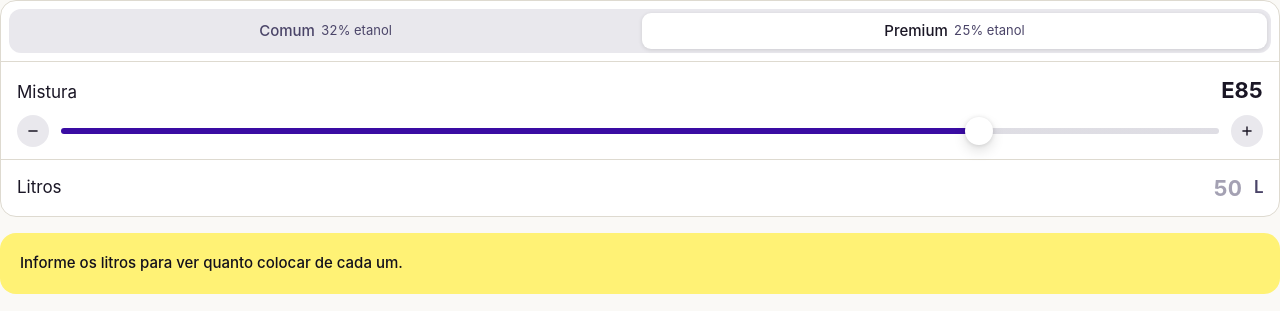
Test case: Calculator › os botões − e + ajustam de 1 em 1
The width and height of the screenshot is (1280, 311).
Step 1. Click the button named "Aumentar mistura" → click(1247, 131), box [1231,115,1263,147]
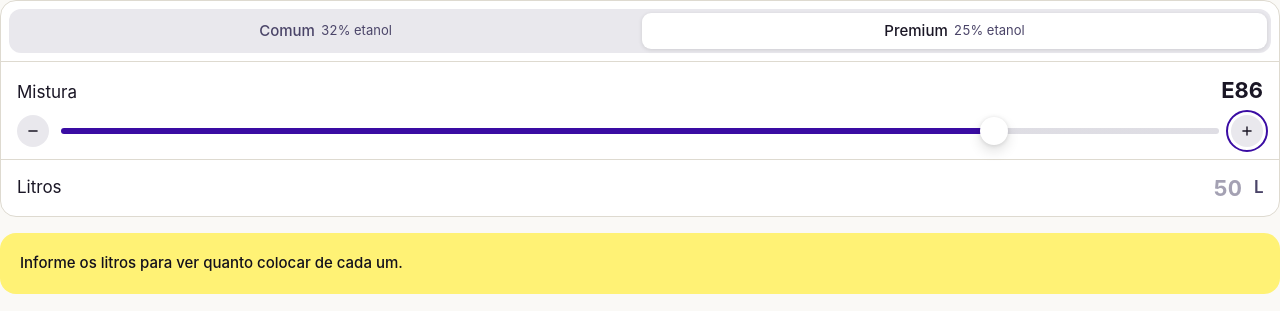
expect the slider labelled "Mistura" holds "86": met, box [61,117,1219,145]
Step 2. Click the button named "Diminuir mistura" → click(33, 131), box [17,115,49,147]
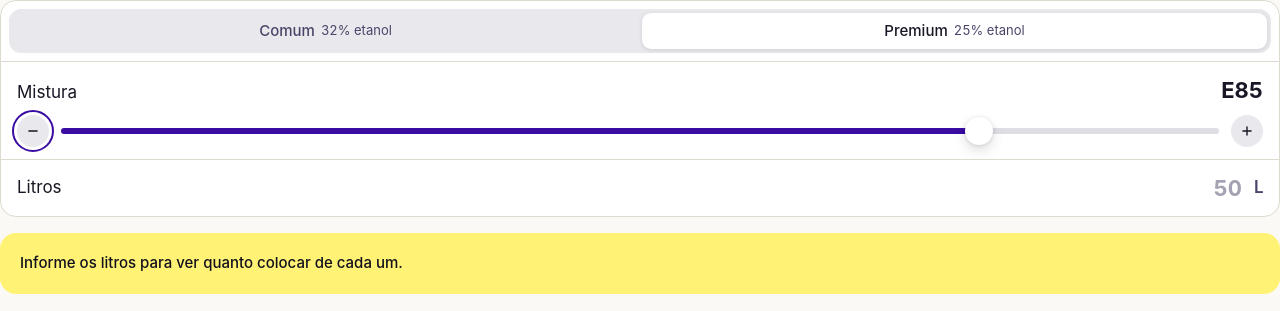
Step 3. Click the button named "Diminuir mistura" → click(33, 131), box [17,115,49,147]
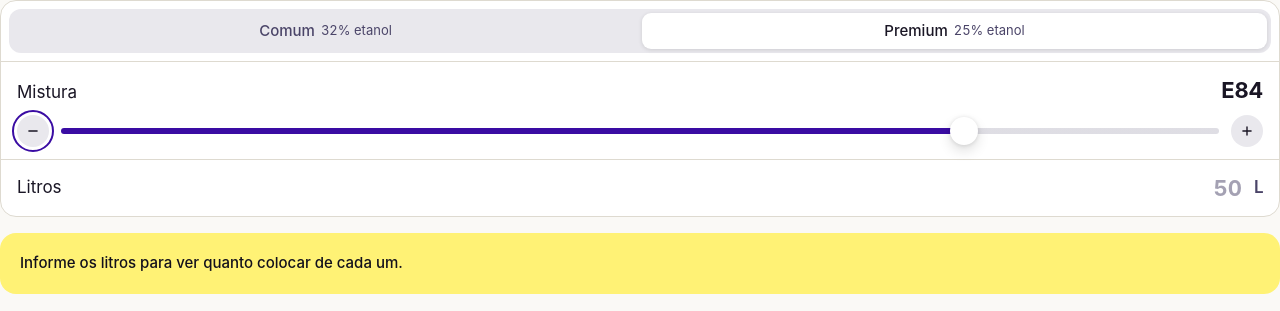
expect the slider labelled "Mistura" holds "84": met, box [61,117,1219,145]
